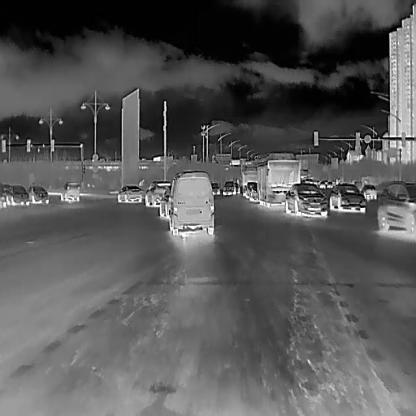car: (168, 170, 214, 234), (257, 159, 298, 206), (377, 182, 415, 232), (284, 183, 327, 215), (329, 184, 366, 210), (143, 179, 171, 206), (116, 185, 142, 203), (7, 184, 28, 205), (159, 183, 172, 216), (28, 183, 49, 203), (59, 182, 79, 202), (246, 180, 259, 201), (361, 183, 376, 199), (223, 179, 236, 194), (209, 181, 220, 195)
